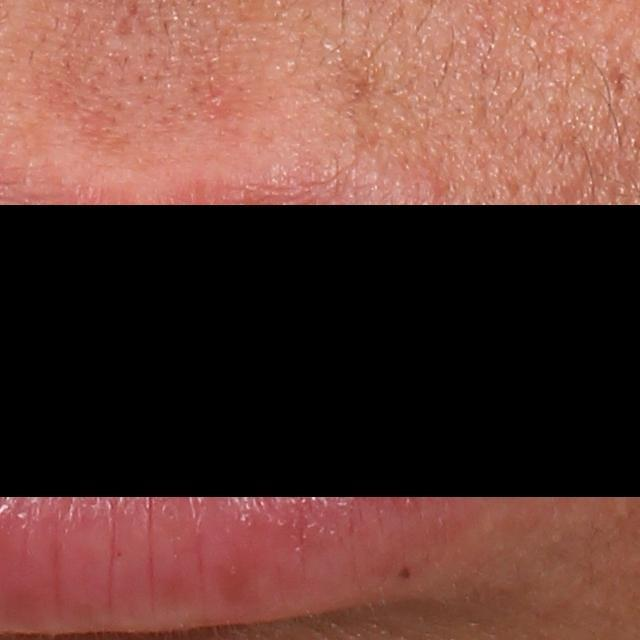atrophic_scar: (112, 13, 135, 41)
nevus: (394, 561, 413, 582)
